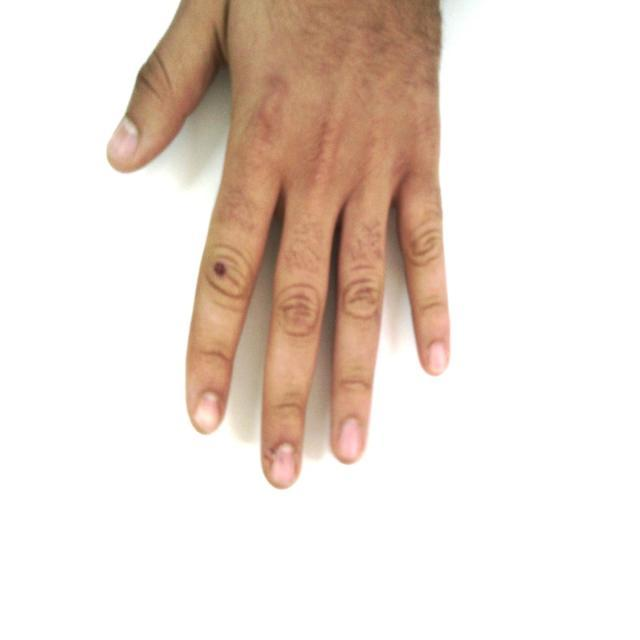Fingernail: (109, 119, 138, 161), (338, 418, 362, 458), (272, 444, 295, 485), (195, 393, 220, 430), (429, 343, 446, 373)
